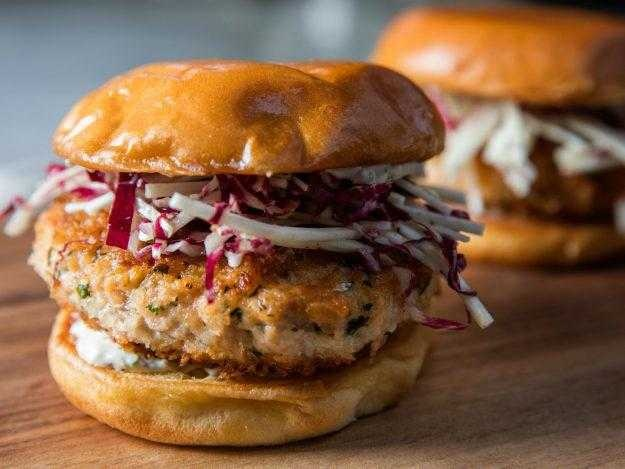hamburger: (27, 45, 466, 438)
